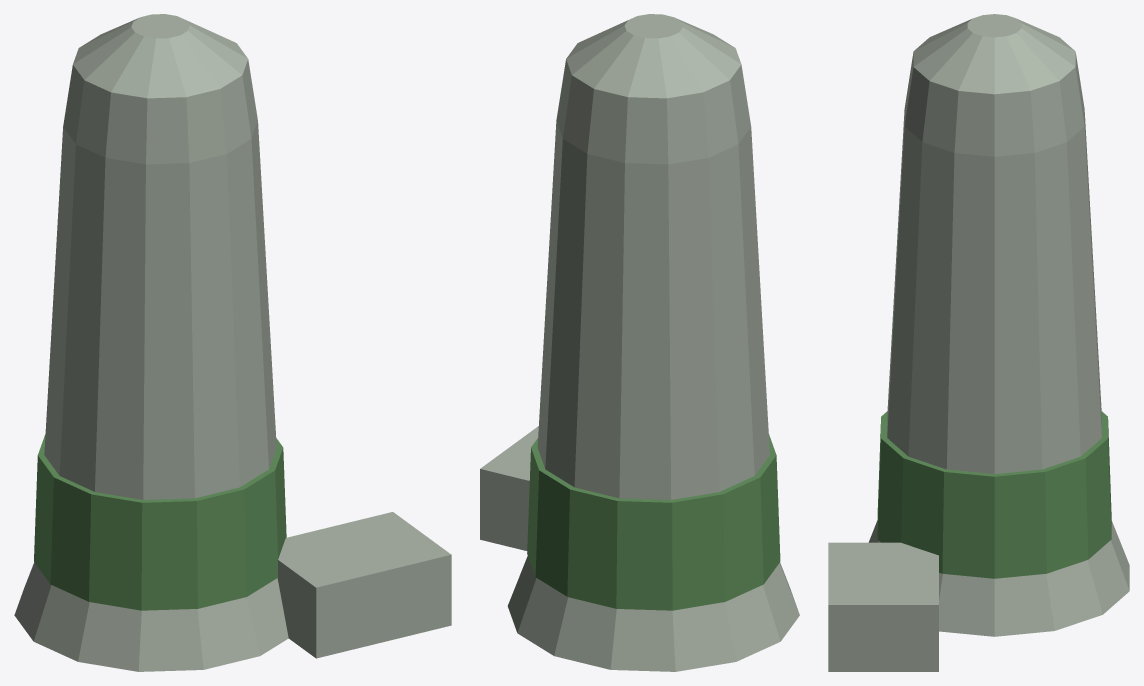
File: ruin_column.glb
The picture shows the model from 3 angles, left to right: view 1: azimuth 30°, elevation 25°; view 2: azimuth 150°, elevation 25°; view 3: azimuth 270°, elevation 25°; orthographic projection. The views are drawn at different scales.
Parts seen in each view (by area): view 1: LOD0; view 2: LOD0; view 3: LOD0.
Boxes of the visible parts, left/top/right/bottom form: LOD0: left=14, top=14, right=451, bottom=671; LOD0: left=480, top=14, right=799, bottom=671; LOD0: left=828, top=14, right=1129, bottom=671.
Size of what is drawn, in the model's own units: 3.9 by 6.6 by 3.26.
